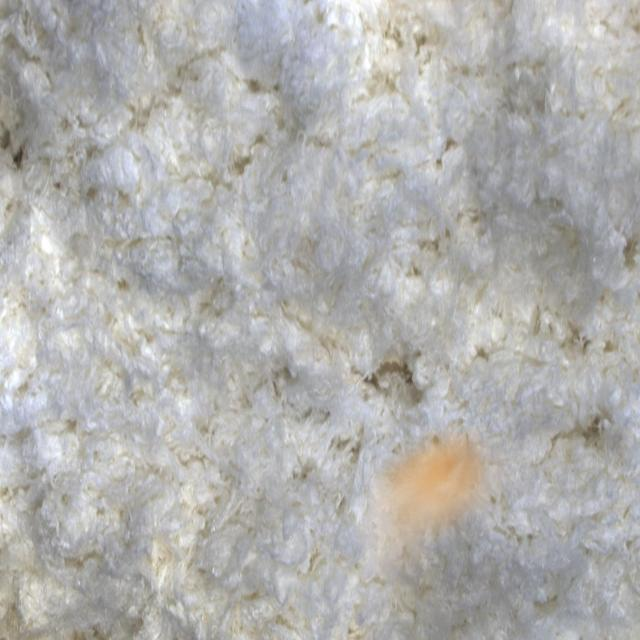dust: (352, 422, 517, 622)
